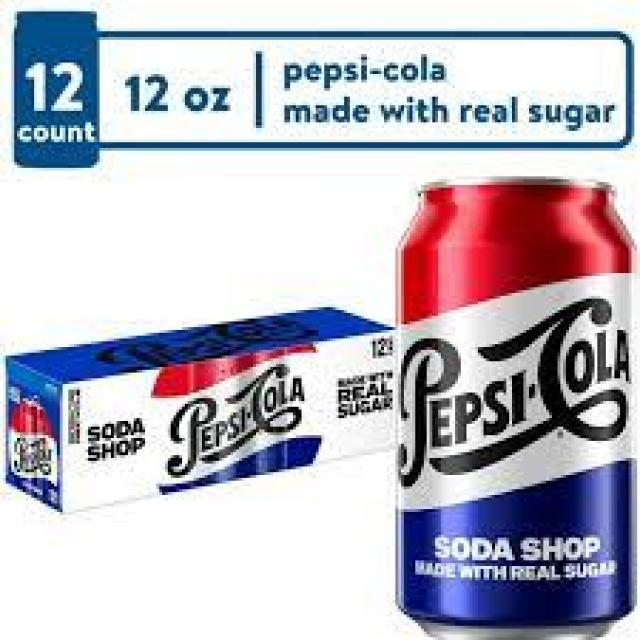Cans: (387, 168, 640, 637)
